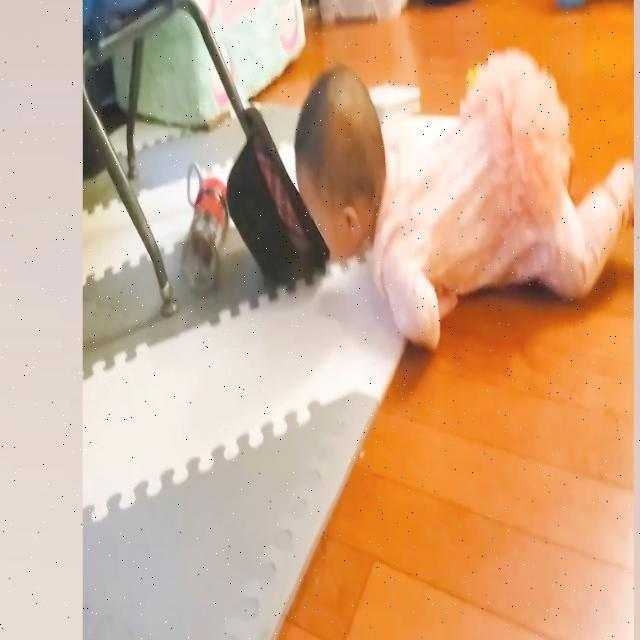child: (298, 51, 634, 351)
